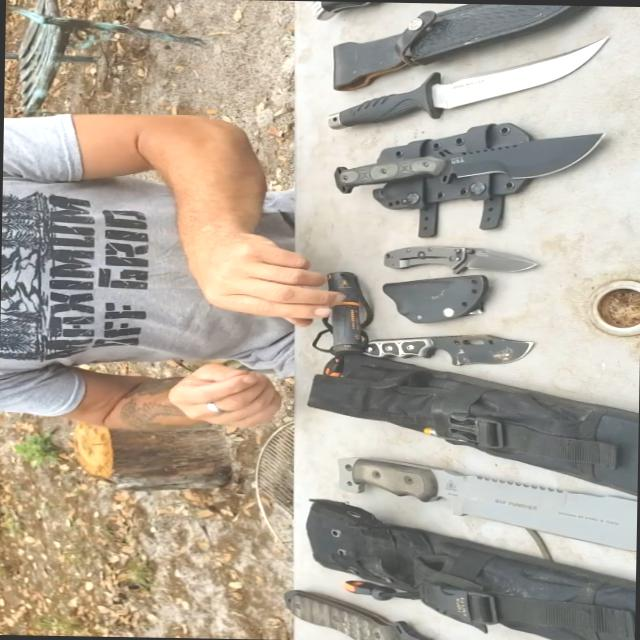knife: (313, 442, 637, 560), (312, 38, 622, 148), (304, 118, 596, 214), (355, 322, 535, 378), (374, 240, 552, 282)
